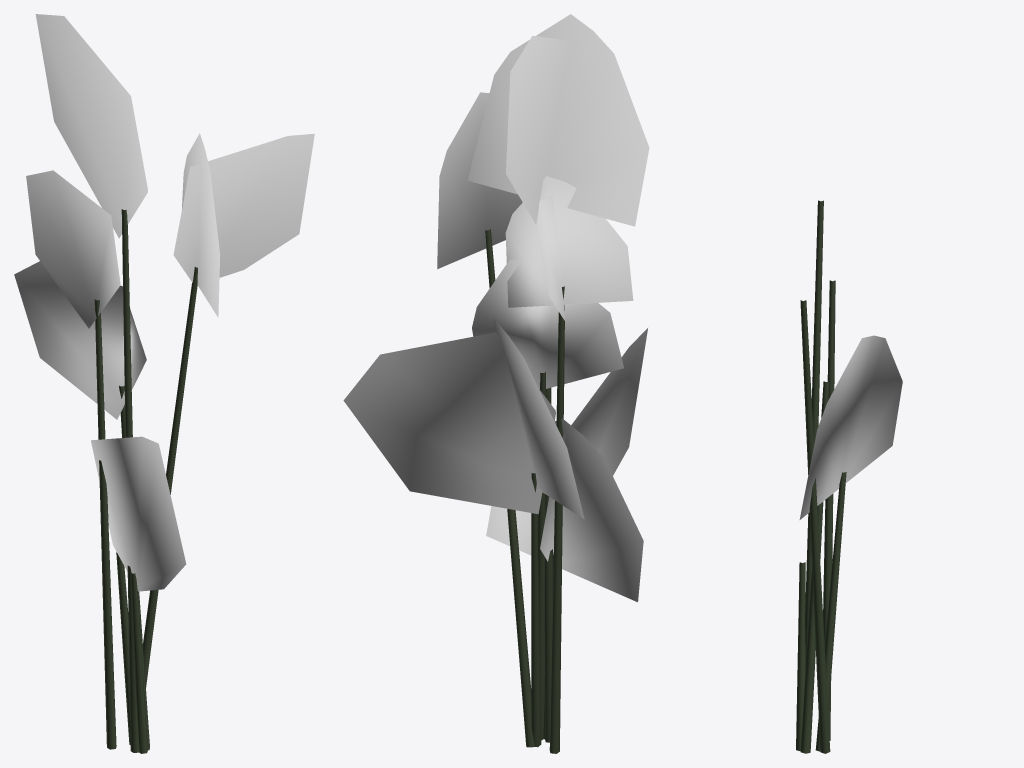
File: bamboo_6.glb
3 views of the same model, side by side, from view 1: azimuth 30°, elevation 25°; view 2: azimuth 150°, elevation 25°; view 3: azimuth 270°, elevation 25° (orthographic). The views are drawn at different scales.
Parts seen in each view (by area): view 1: bamboo_6; view 2: bamboo_6; view 3: bamboo_6.
Part boxes in pixels (x1,y1,x2,y2): bamboo_6: (14,14,314,753); bamboo_6: (343,14,649,753); bamboo_6: (796,200,902,753).
Size of the model in its own units: 1.42 by 3.79 by 1.58.
